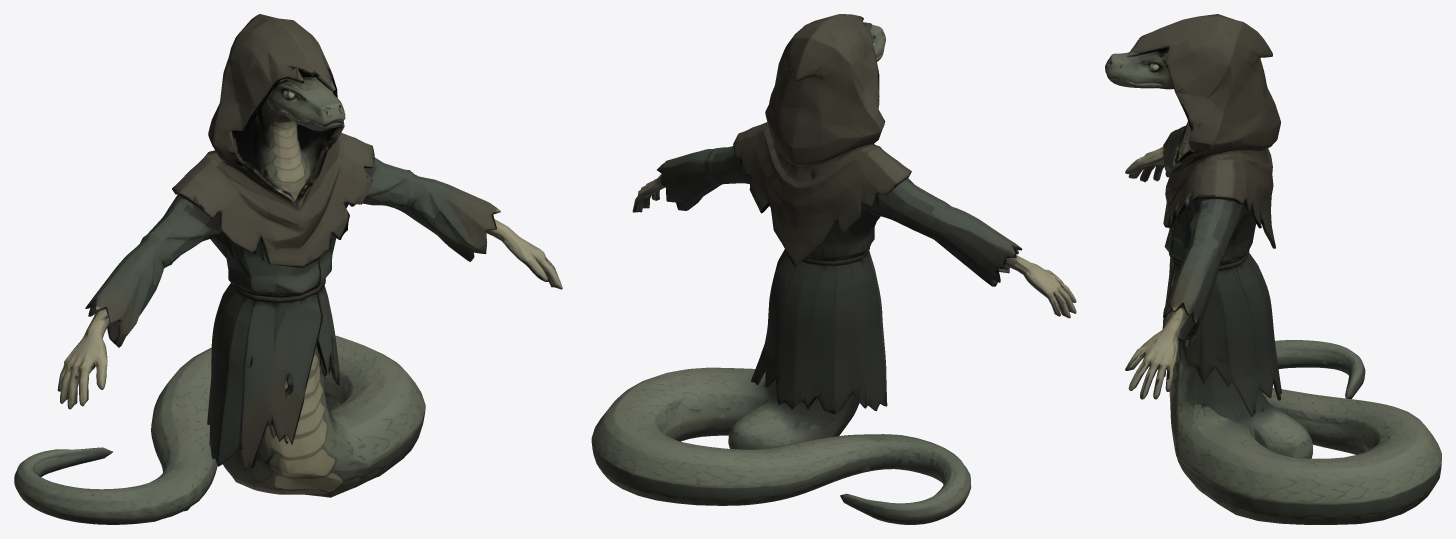
The model's file is serpiente.fbx.
3 renders of one model, left to right at view 1: azimuth 30°, elevation 25°; view 2: azimuth 150°, elevation 25°; view 3: azimuth 270°, elevation 25°, orthographic. The views are drawn at different scales.
Parts seen in each view (by area): view 1: node_0; view 2: node_0; view 3: node_0.
Part boxes in pixels (x1=…): node_0: x1=14, y1=14, x2=562, y2=524; node_0: x1=591, y1=14, x2=1076, y2=524; node_0: x1=1105, y1=14, x2=1441, y2=524.
Bounding box in the file's own units: 98.72 × 90.96 × 63.89.
1 material, 1 textured.
